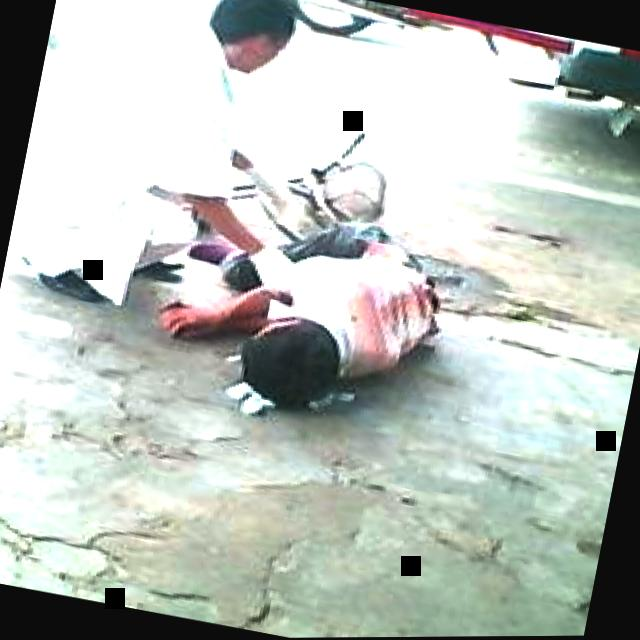Fall-Detected: (140, 168, 468, 457)
